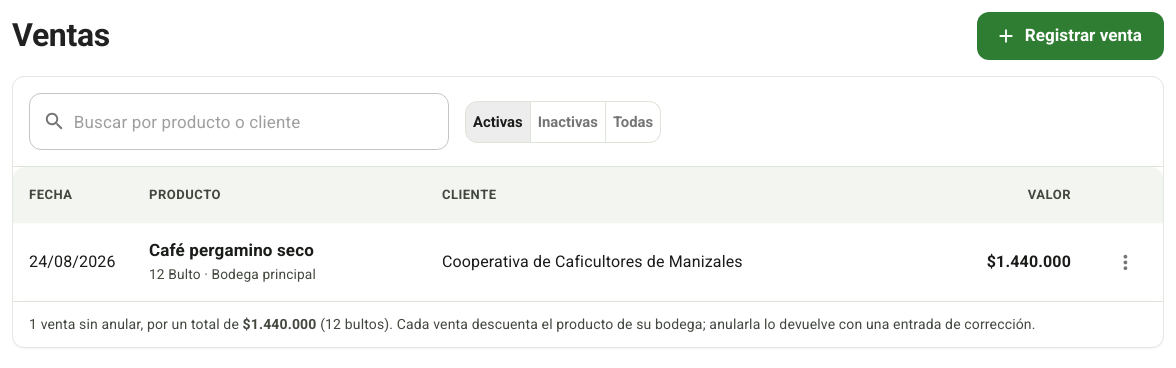
it: undoing a sale › keeps the voided sale visible under its own filter
This screenshot has width=1176, height=368.
Expected: the text "Café pergamino seco" is shown, [149,240,314,260]
Click the button "Inactivas": (568, 122) [530,101,606,143]
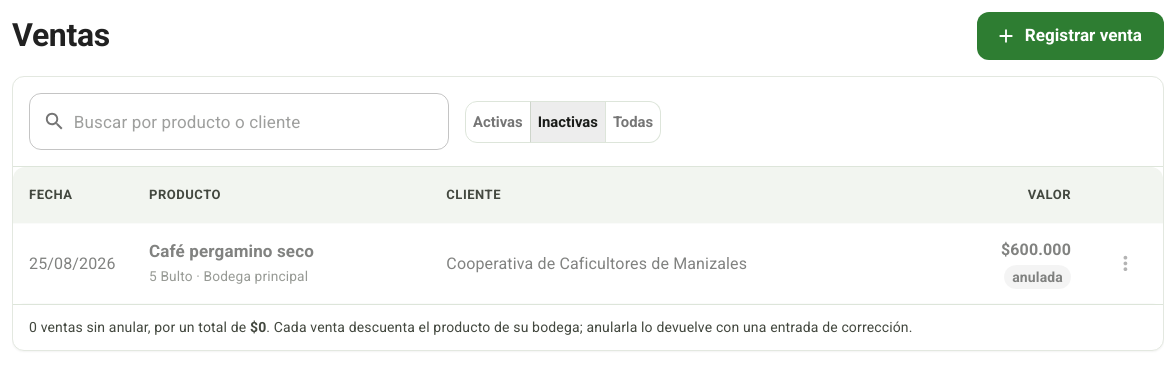
Now the text "anulada" is shown, box [1012,268,1063,284]
